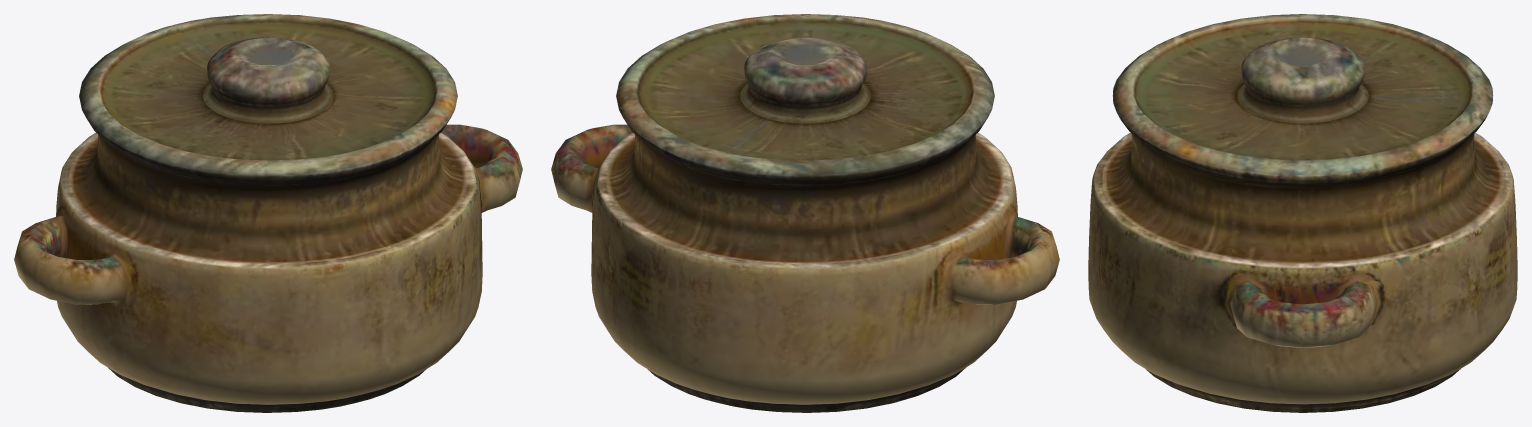
Rendered from ceramic_pot.glb.
3 views of the same model, side by side, from view 1: azimuth 30°, elevation 25°; view 2: azimuth 150°, elevation 25°; view 3: azimuth 270°, elevation 25° (orthographic).
Visible parts, largest first — view 1: ceramic_pot; view 2: ceramic_pot; view 3: ceramic_pot.
Boxes of the visible parts, x1,y1,x2,y2 form: ceramic_pot: (14,14,522,412); ceramic_pot: (551,14,1059,412); ceramic_pot: (1088,14,1517,412).
Size of the model in its own units: 0.6563 by 0.3717 by 0.5018.
1 material, 1 textured.
